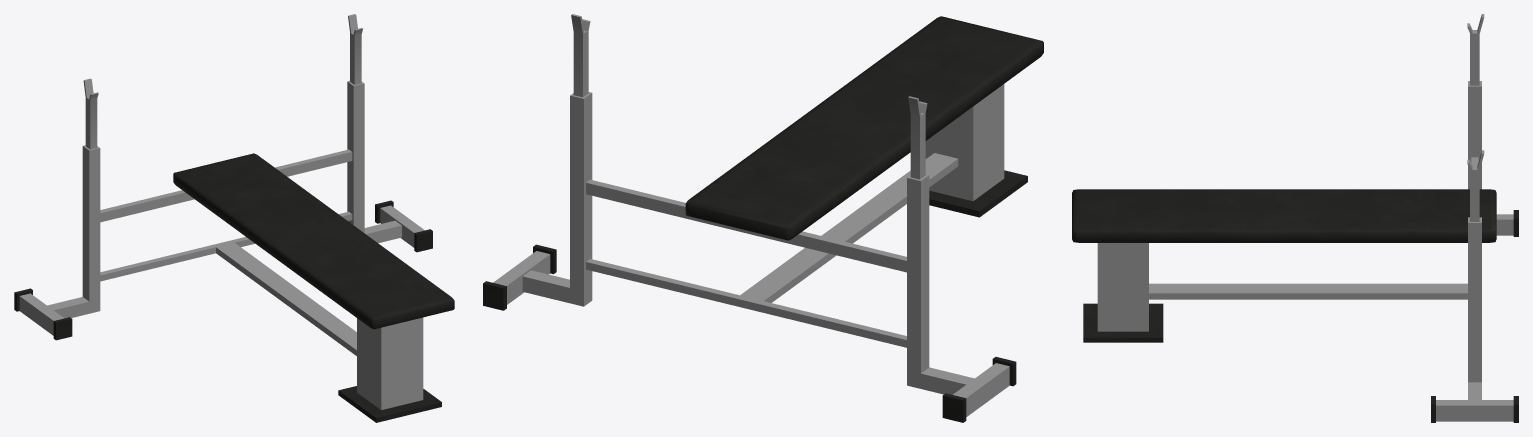
Rendered from weight-bench.glb.
The picture shows the model from 3 angles, left to right: view 1: azimuth 30°, elevation 25°; view 2: azimuth 150°, elevation 25°; view 3: azimuth 270°, elevation 25°; orthographic projection. The views are drawn at different scales.
Parts seen in each view (by area): view 1: weight_bench_gym_environment_0; view 2: weight_bench_gym_environment_0; view 3: weight_bench_gym_environment_0.
Boxes of the visible parts, bbox=[...] form: weight_bench_gym_environment_0: bbox=[14, 14, 454, 422]; weight_bench_gym_environment_0: bbox=[483, 14, 1043, 422]; weight_bench_gym_environment_0: bbox=[1072, 14, 1518, 422].
Size of the model in its own units: 1.72 by 1 by 1.68.
Materials: 1 (1 with a texture image).
